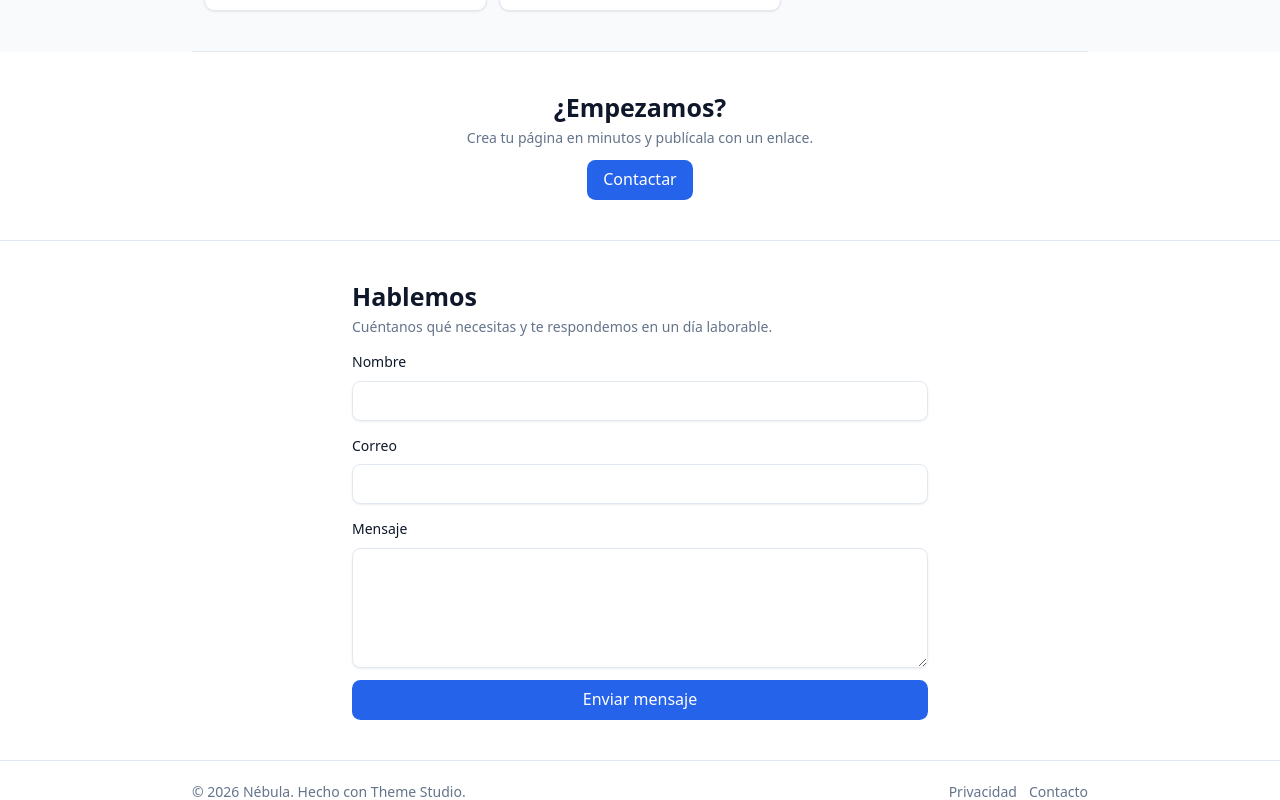
Test: bloque form en una página pública › envía los campos controlados y muestra el mensaje de éxito
The image size is (1280, 800).
(page scrolled)
Type "Ana" into the field labelled "Nombre" at (640, 401), box [352,381,928,421]
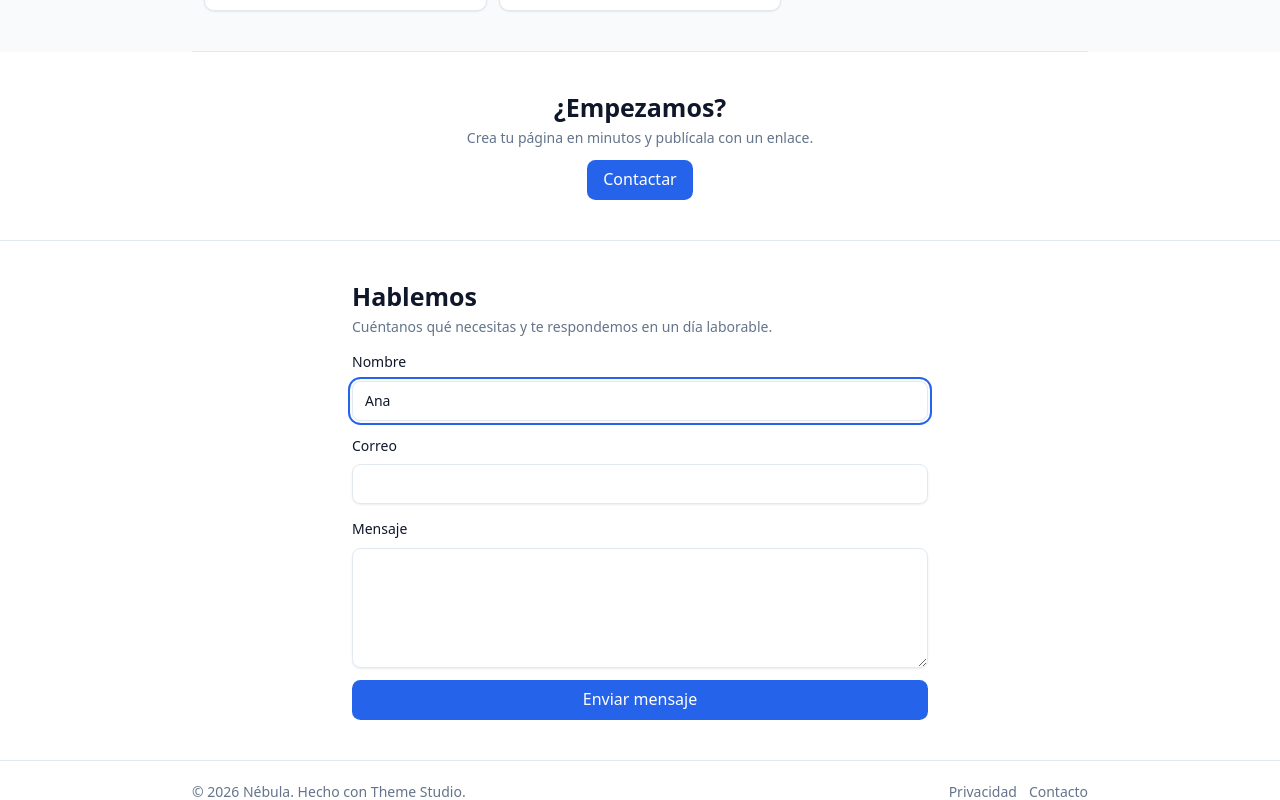
Type "ana@example.com" into the field labelled "Correo" at (640, 484), box [352,464,928,504]
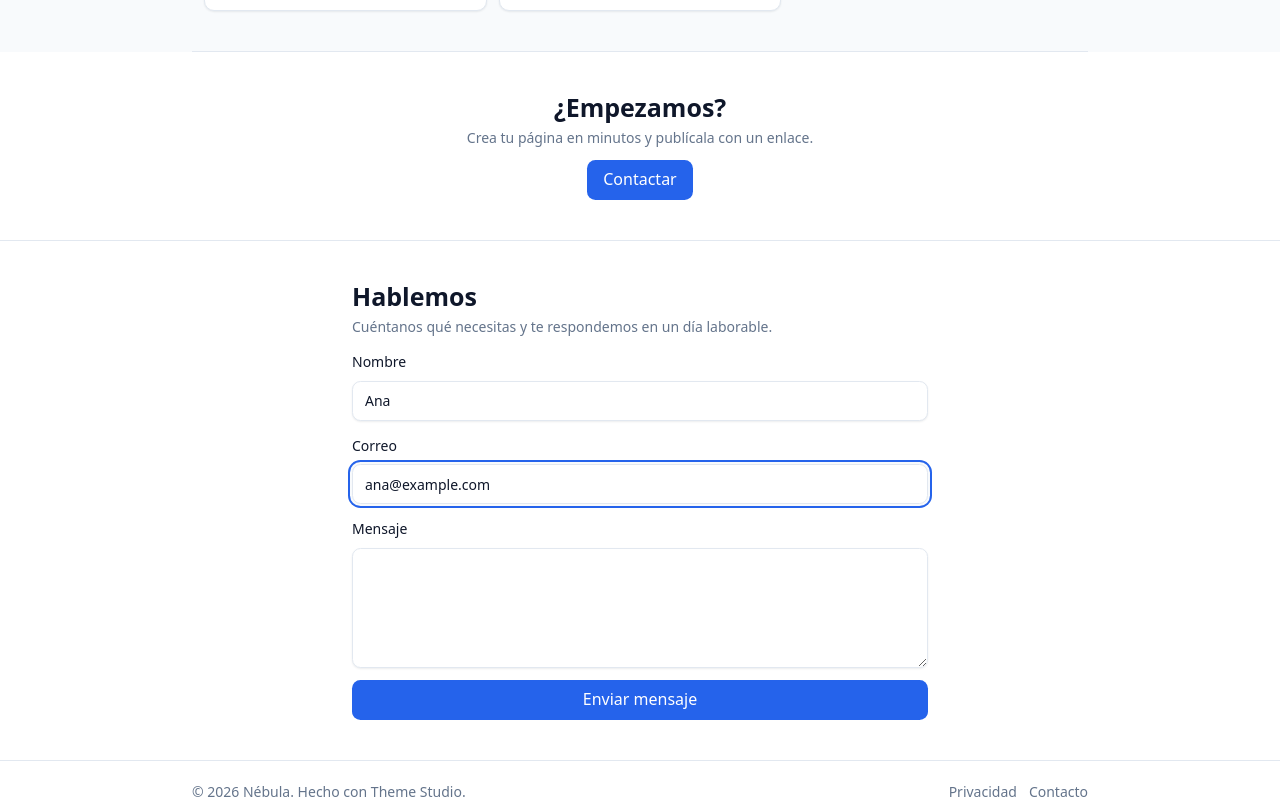
Type "Hola" into the text box labelled "Mensaje" at (640, 608), box [352,548,928,668]
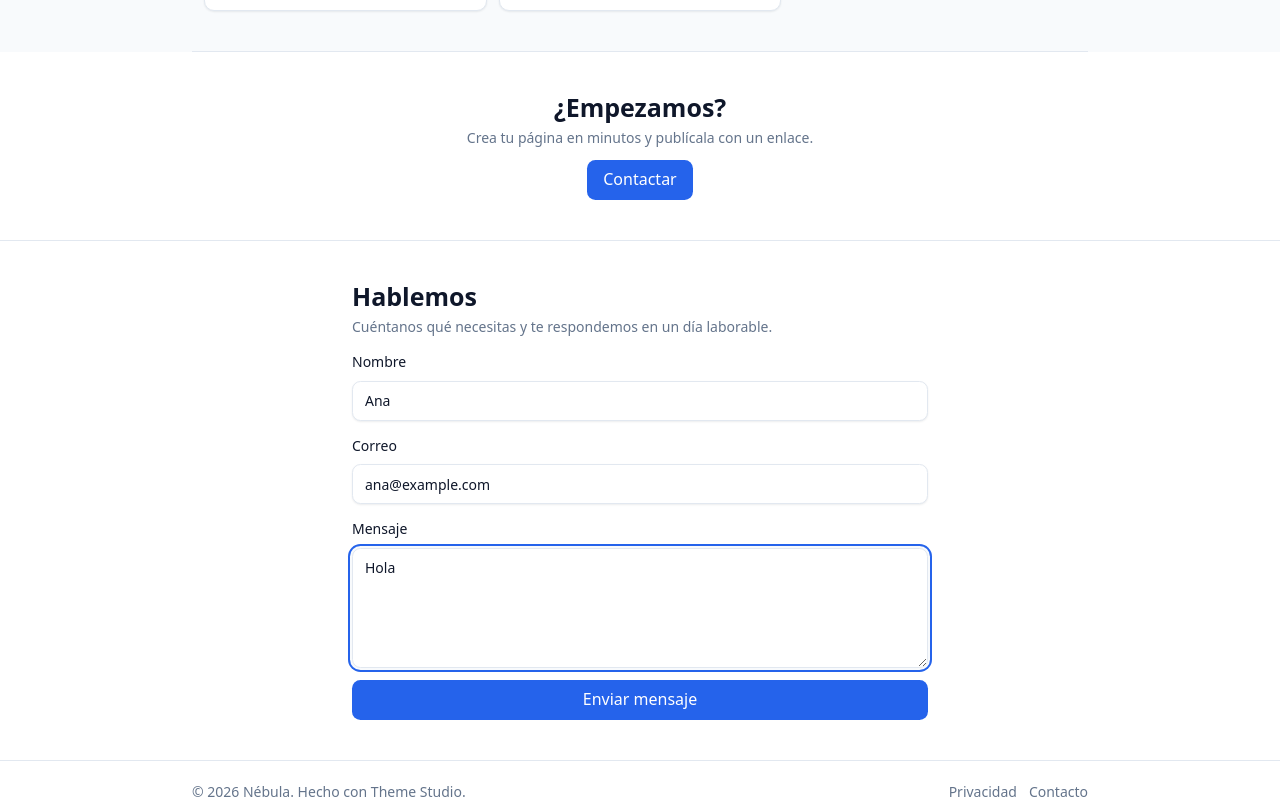
Click the button "Enviar mensaje" at (640, 700), box [352,680,928,720]
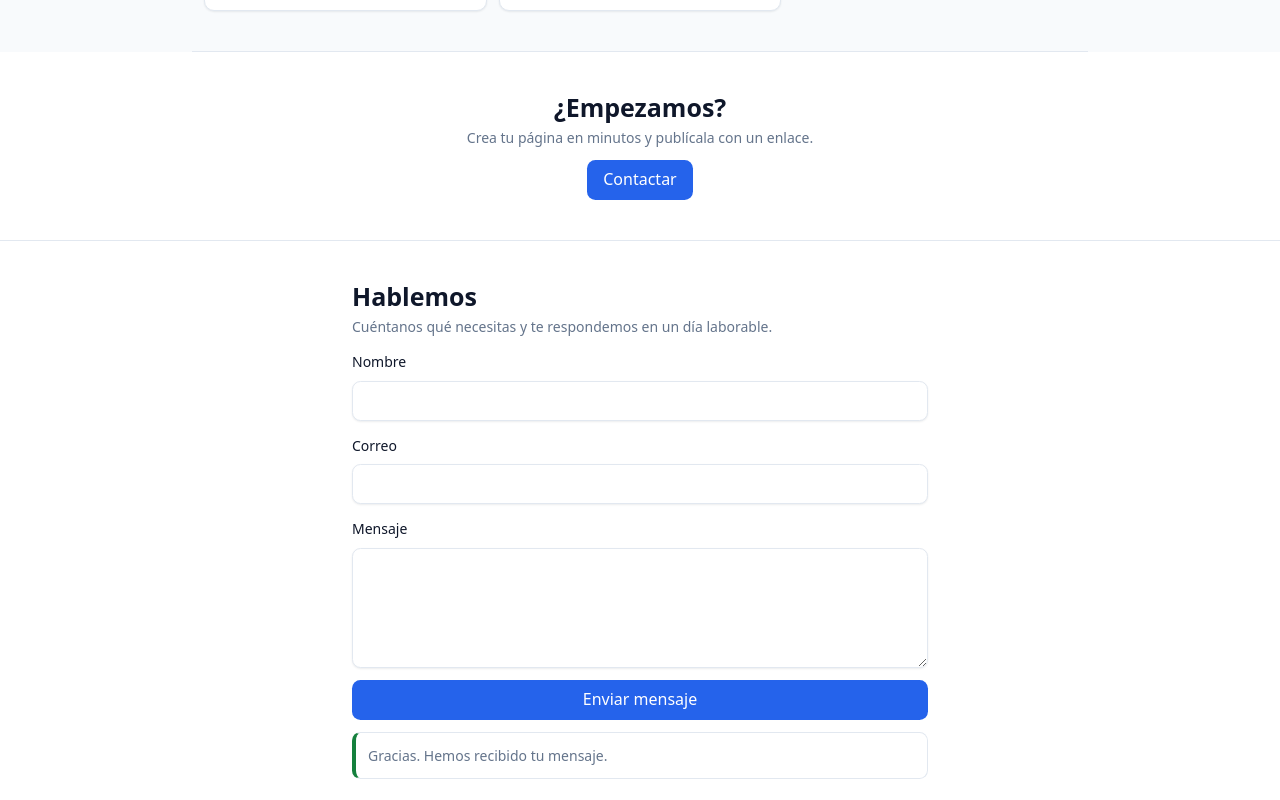
Now the text "Gracias. Hemos recibido tu mensaje." is shown, box [368,745,608,766]
